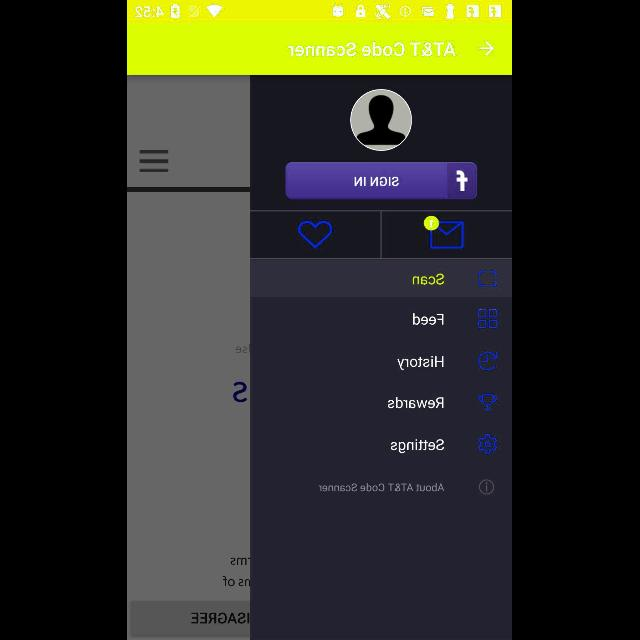icon: (351, 89, 413, 151), (424, 216, 466, 248), (298, 220, 334, 250), (140, 150, 170, 172), (478, 434, 498, 454), (479, 352, 498, 371), (478, 310, 498, 328), (479, 41, 495, 57), (479, 480, 495, 494)
image: (478, 394, 498, 411), (478, 271, 498, 287)
panel: (252, 75, 512, 639)
text: (288, 42, 458, 58), (319, 482, 445, 492), (391, 439, 445, 453), (389, 397, 445, 409), (398, 356, 444, 370), (413, 273, 445, 285), (414, 313, 444, 325)
textbutton: (286, 162, 478, 200)
toolbar: (128, 23, 512, 75)
uppertaskbar: (128, 1, 512, 23)
